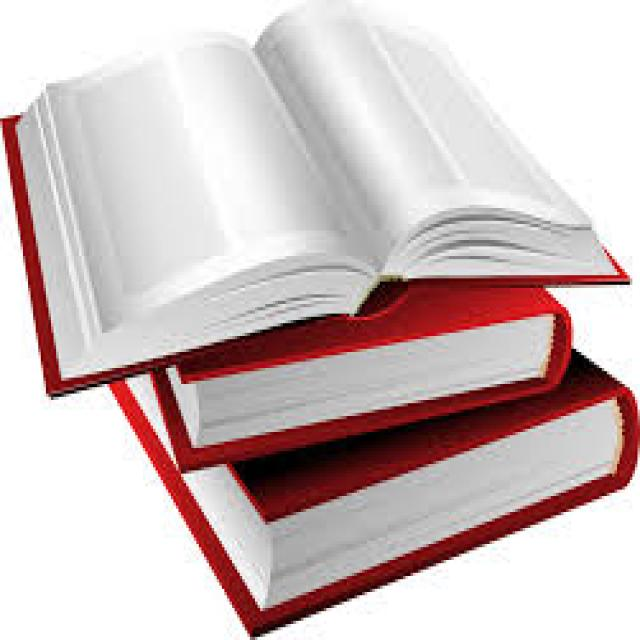book: (0, 0, 635, 384)
